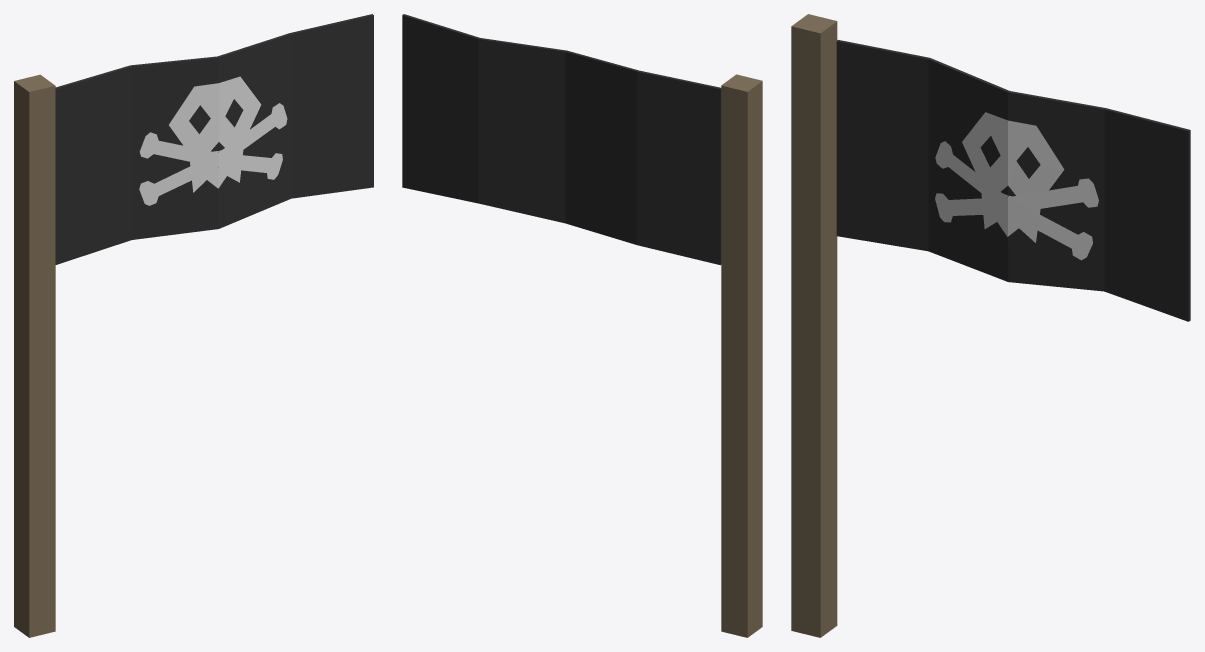
The model's file is Flag.fbx.
The picture shows the model from 3 angles, left to right: view 1: azimuth 30°, elevation 25°; view 2: azimuth 150°, elevation 25°; view 3: azimuth 330°, elevation 25°; orthographic projection. The views are drawn at different scales.
Parts seen in each view (by area): view 1: Flag; view 2: Flag; view 3: Flag.
Boxes of the visible parts, x1,y1,x2,y2 form: Flag: (14,14,373,637); Flag: (402,14,762,637); Flag: (791,14,1190,637).
Size of the model in its own units: 85.66 by 127 by 6.42.
